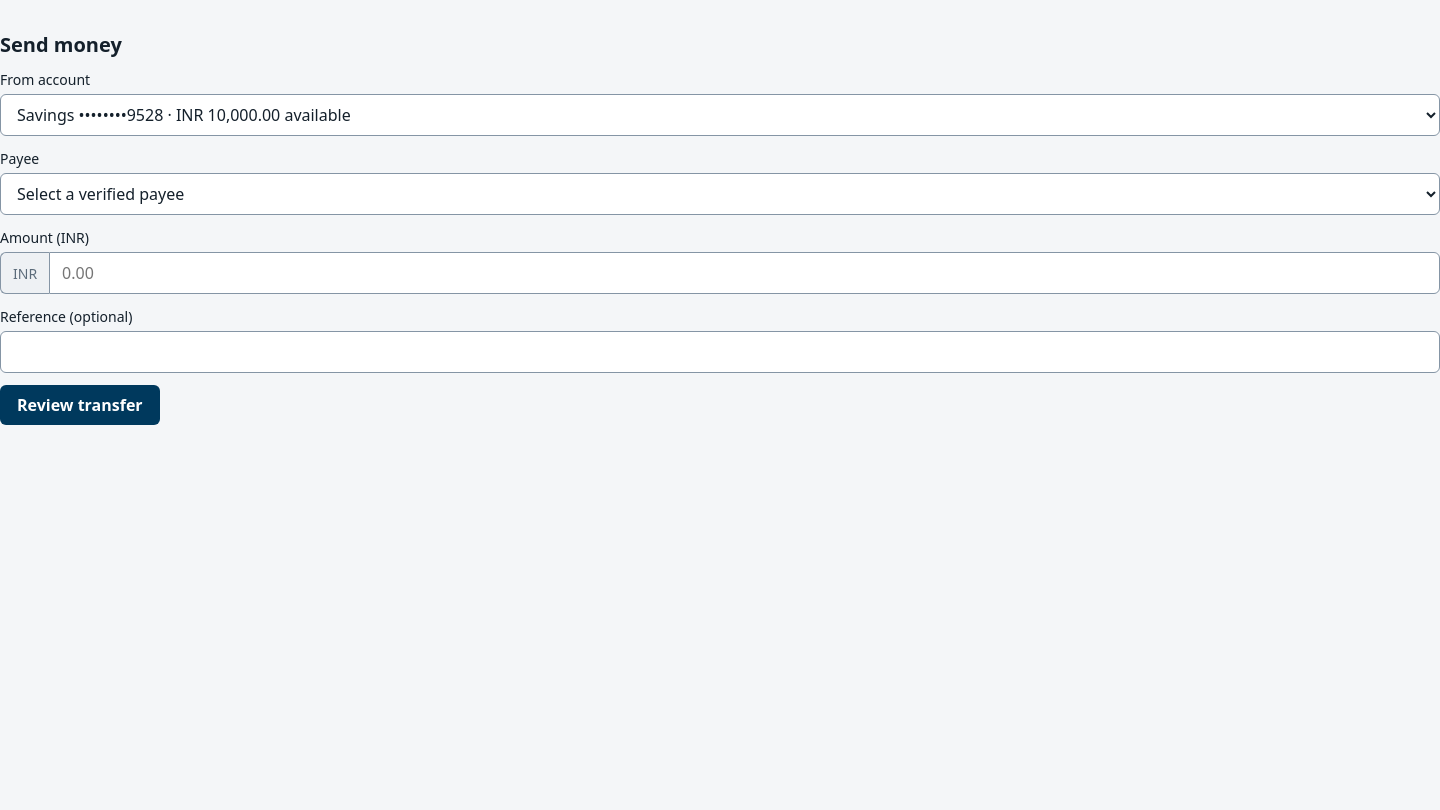
Test: SendMoney › sends from the chosen account after review and shows the receipt
The width and height of the screenshot is (1440, 810).
Select "Current (checking) ••••••••1111 · INR 500.00 available" in the dropdown labelled "From account" at (720, 115), box [0,94,1439,136]
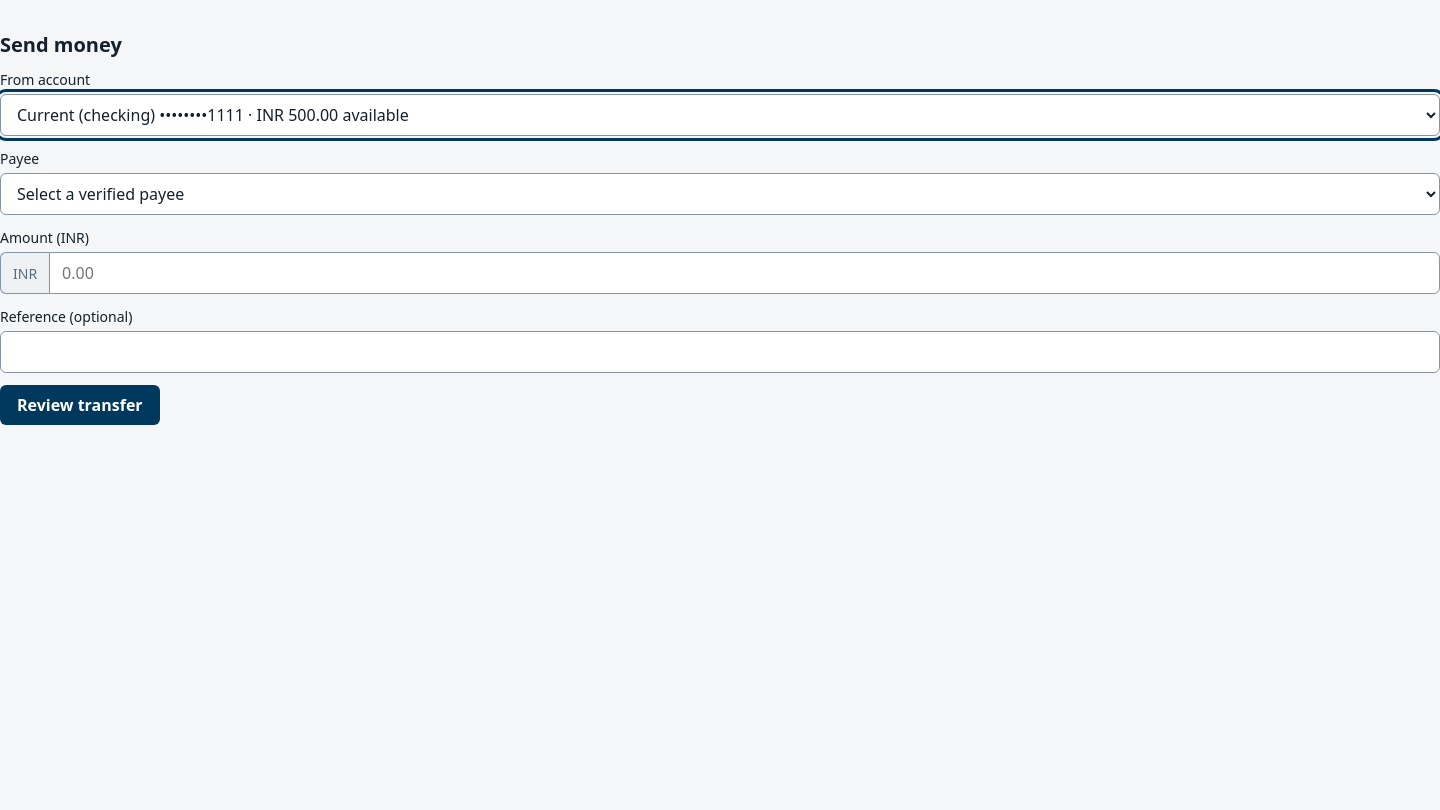
Select "Bob Demo (••••••••2621)" in the dropdown labelled "Payee" at (720, 194), box [0,173,1439,215]
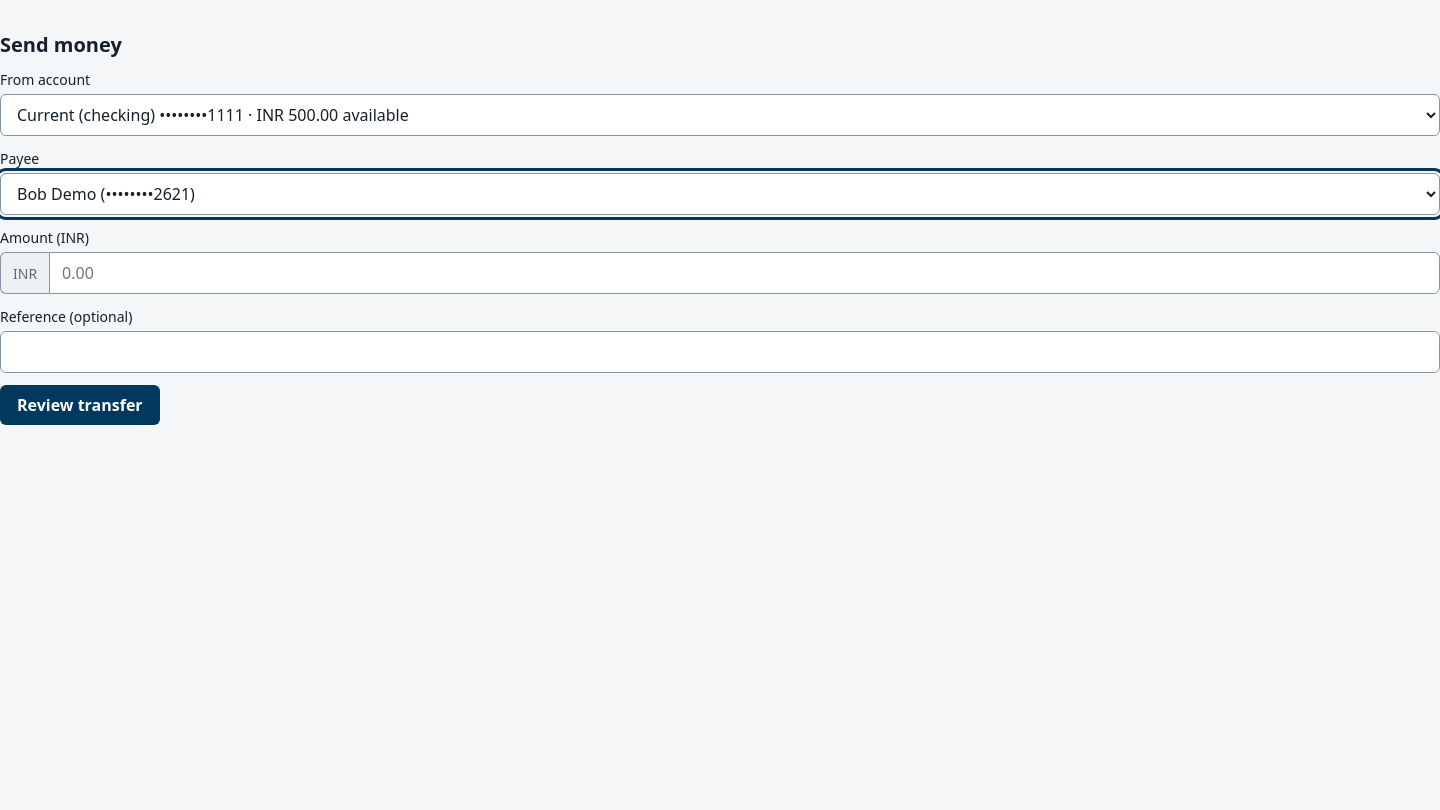
Type "300" into the field labelled "Amount (INR)" at (745, 273), box [49,252,1439,294]
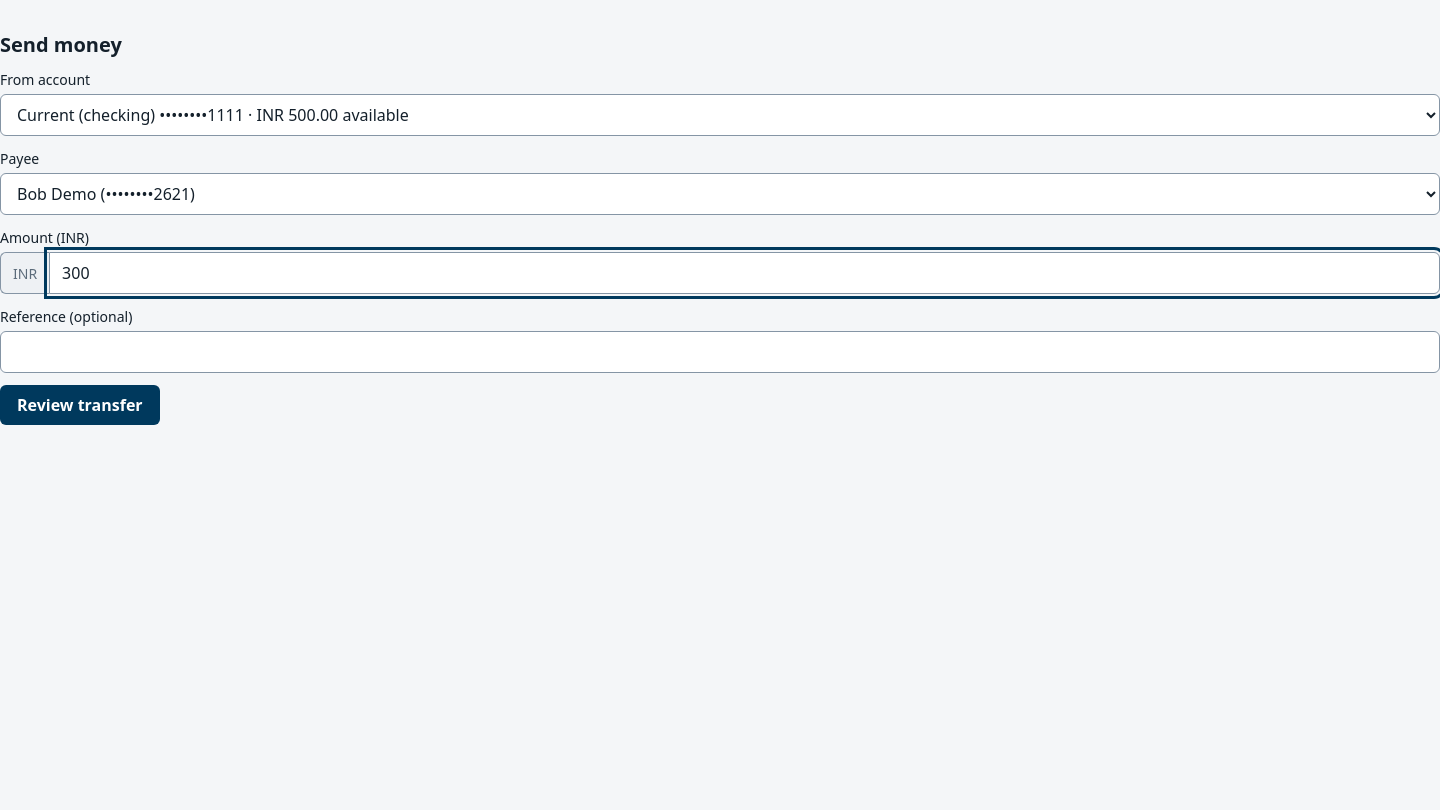
Type "rent" into the field labelled "Reference (optional)" at (720, 352), box [0,331,1439,373]
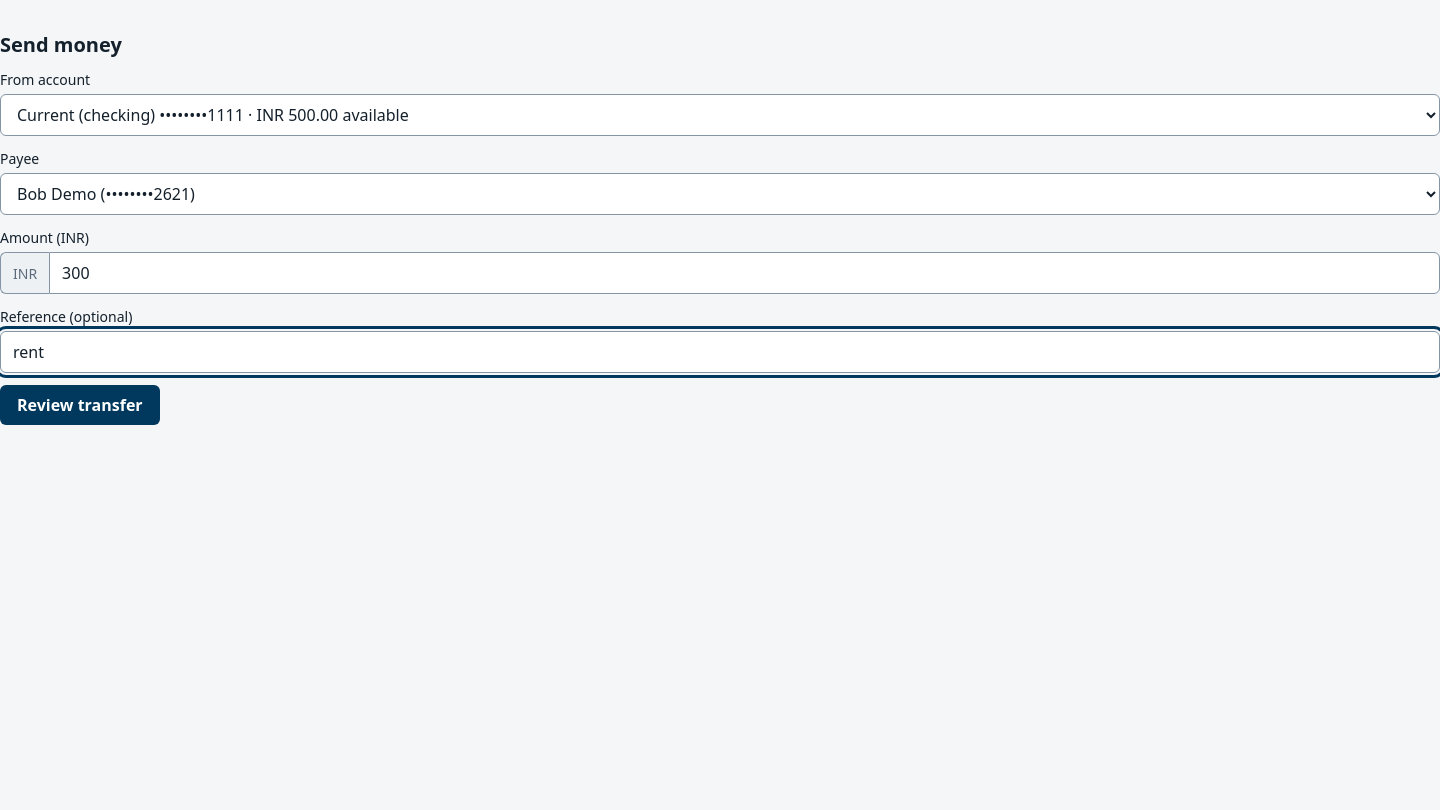
Click the button "Review transfer" at (80, 405), box [0,385,160,425]
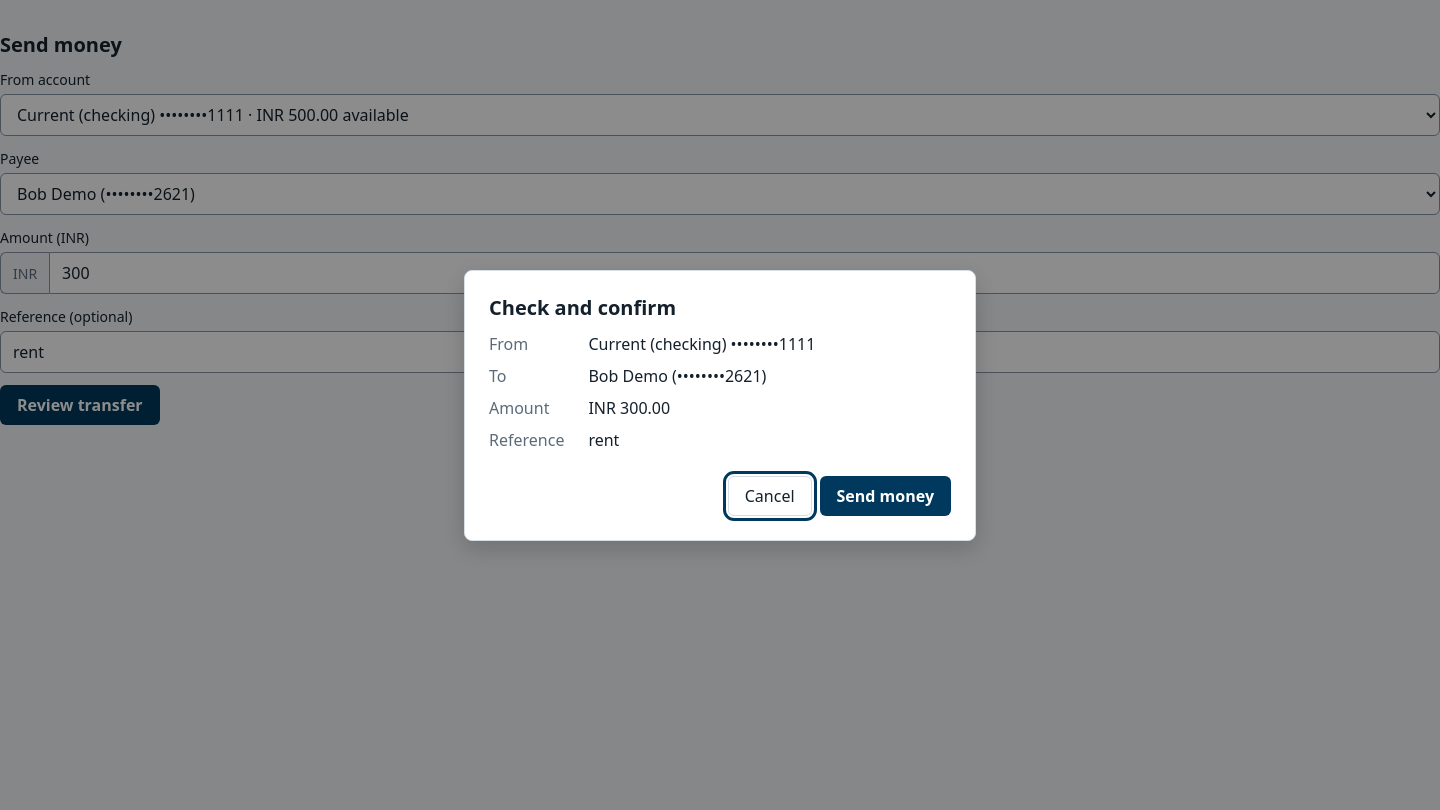
Expected: the text "Bob Demo (••••••••2621)" is shown, [588,364,766,386]
Click the button "Send money" at (885, 496), box [820,476,951,516]
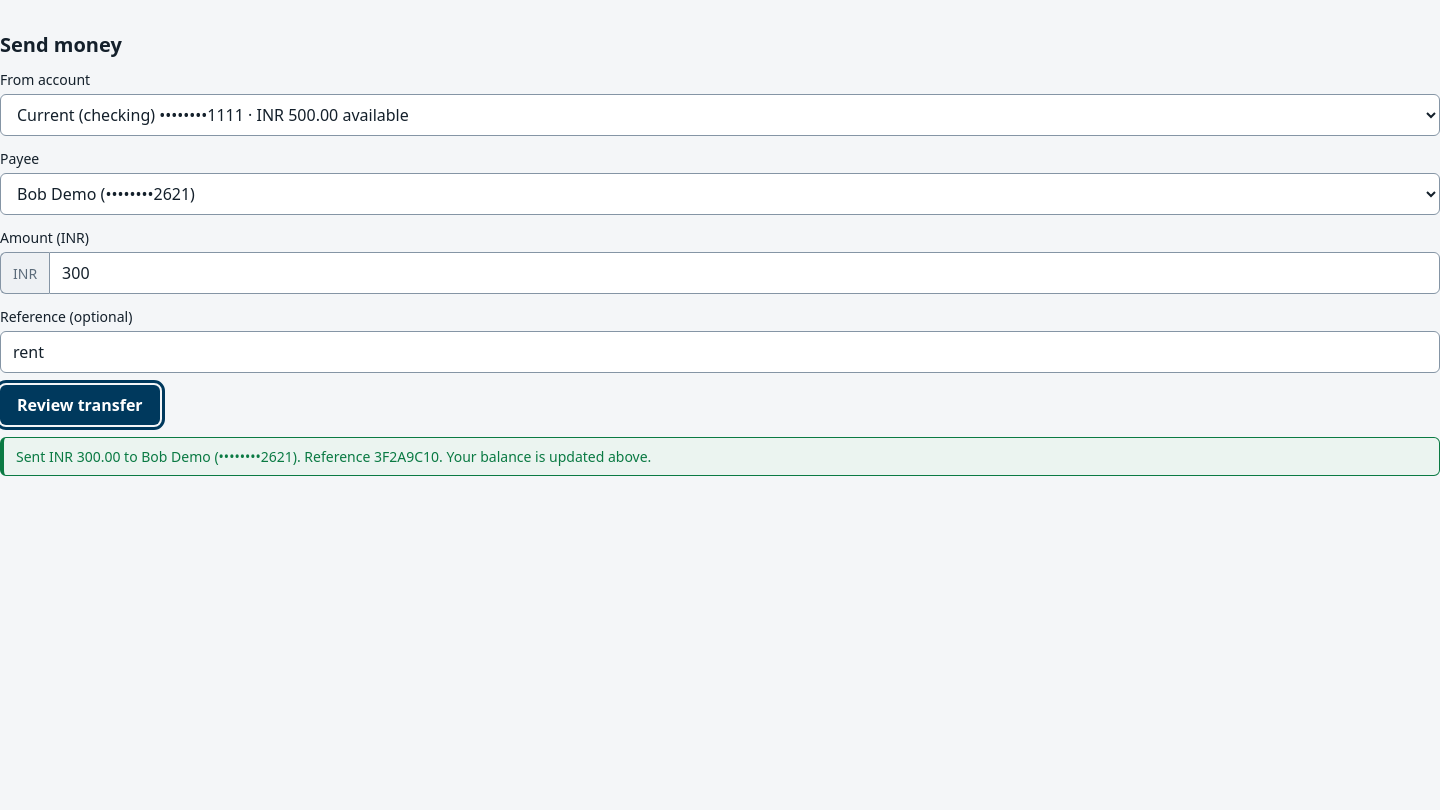
Expected: the text "Sent INR 300.00 to Bob Demo" is shown, [0,437,1439,476]
